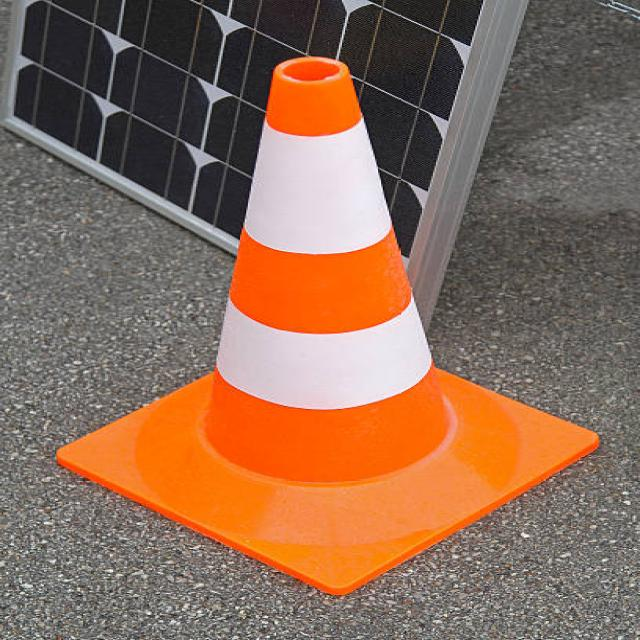Traffic Cone: (32, 25, 636, 634)
